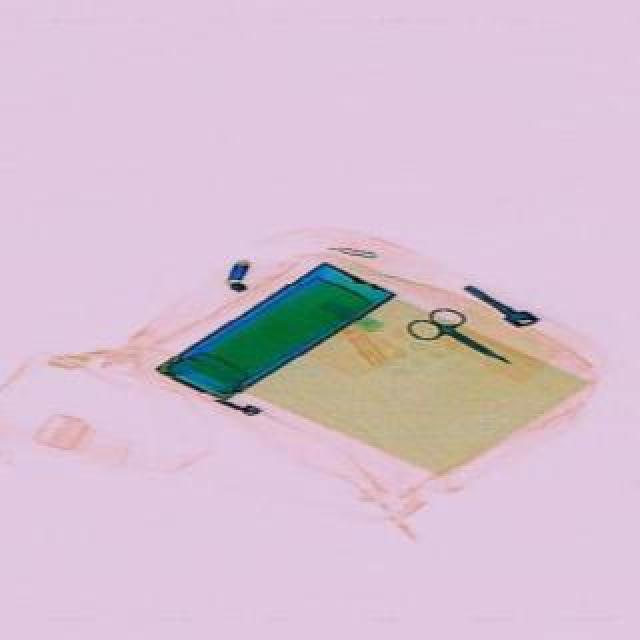pliers: (398, 294, 518, 382)
